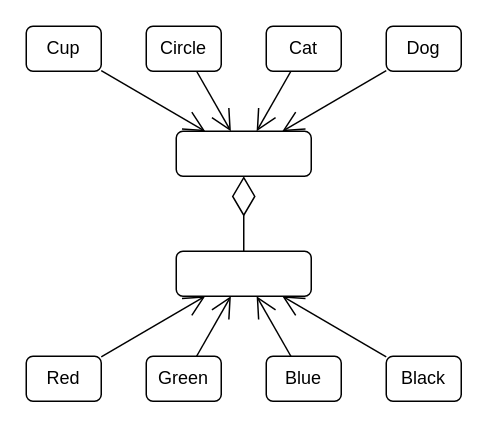
This 488x428 diagram has some shape labels left out. Here are the shapes that lost their labels. From the top down, the centre of each, then its label:
the point at 243,153: Object
the point at 243,273: Color
